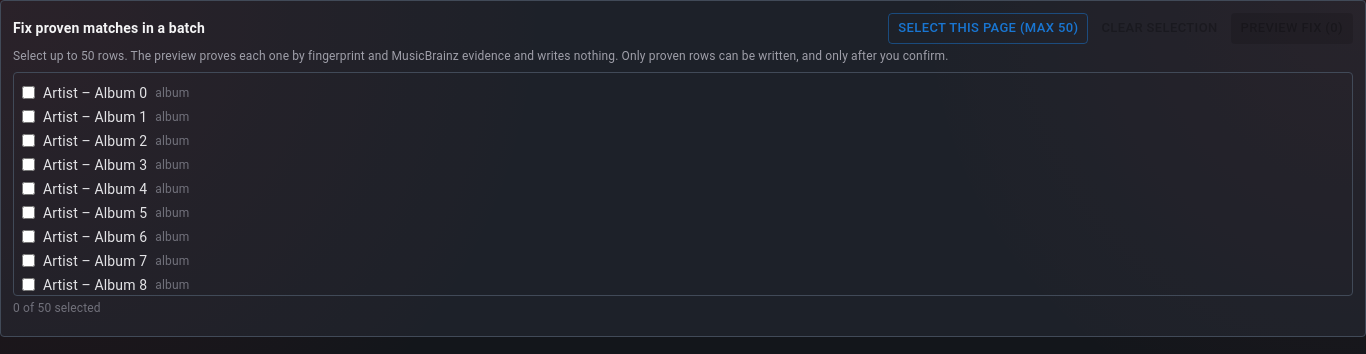
Test: Missing IDs batch fix (#399) › caps the selection at 50 rows
The width and height of the screenshot is (1366, 354).
Click the button "Select this page (max 50)": click(988, 28) [888,13,1088,44]
(page scrolled)
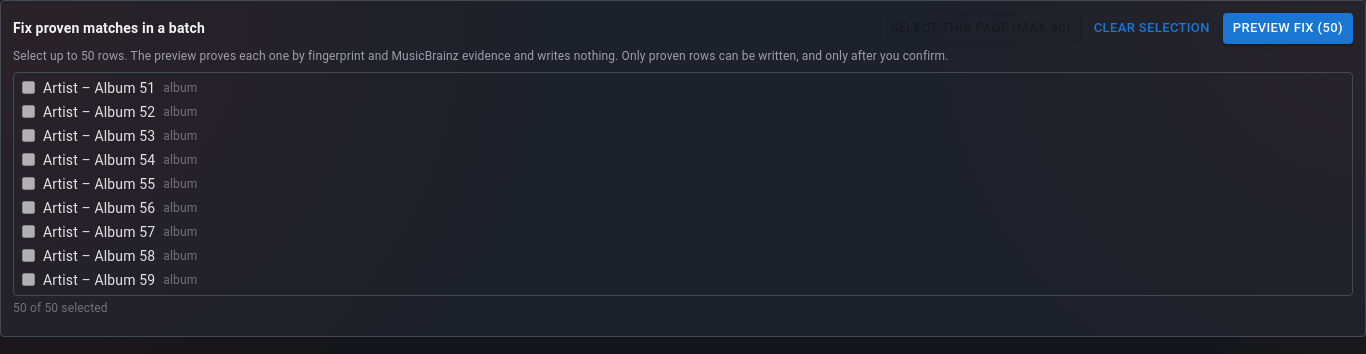
Result: the button "Preview fix (50)" is shown at [1223,13,1353,44]
Result: the checkbox labelled "Artist – Album 55 album" is disabled at [22,177,35,190]
